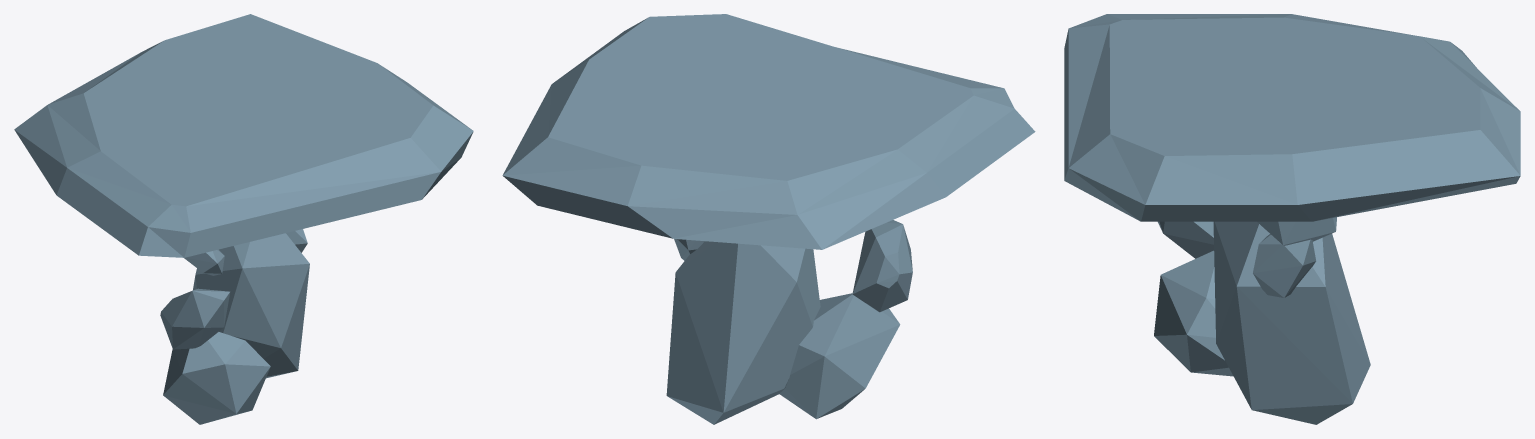
Rendered from StoneTree1.fbx.
3 views of the same model, side by side, from view 1: azimuth 30°, elevation 25°; view 2: azimuth 150°, elevation 25°; view 3: azimuth 270°, elevation 25° (orthographic). The views are drawn at different scales.
Parts seen in each view (by area): view 1: Cube.055, Cube.054, Cube.058, Cube.059, Cube.060; view 2: Cube.055, Cube.054, Cube.058, Cube.059; view 3: Cube.055, Cube.054, Cube.058, Cube.056, Cube.059, Cube.057.
Boxes of the visible parts, x1,y1,x2,y2 form: Cube.055: [14, 14, 473, 257]; Cube.054: [193, 233, 309, 378]; Cube.058: [163, 332, 270, 424]; Cube.059: [160, 288, 230, 349]; Cube.060: [184, 249, 224, 275]; Cube.055: [502, 14, 1035, 249]; Cube.054: [666, 241, 820, 424]; Cube.058: [779, 293, 900, 419]; Cube.059: [852, 220, 912, 312]; Cube.055: [1064, 14, 1520, 221]; Cube.054: [1213, 221, 1370, 424]; Cube.058: [1154, 250, 1233, 376]; Cube.056: [1253, 234, 1315, 297]; Cube.059: [1158, 221, 1213, 258]; Cube.057: [1257, 217, 1336, 245].
Bounding box in the file's own units: 1063 × 848 × 1030.
